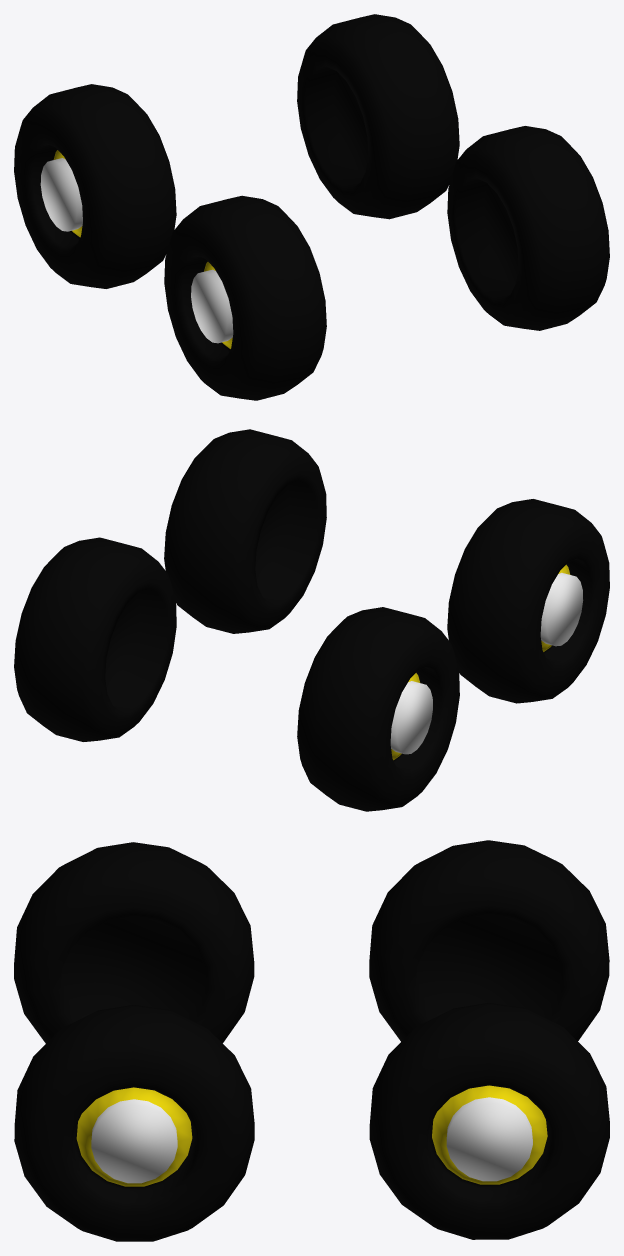
The model's file is player-kart-bigfoot.glb.
3 renders of one model, top to bottom at view 1: azimuth 30°, elevation 25°; view 2: azimuth 150°, elevation 25°; view 3: azimuth 270°, elevation 25°, orthographic. The views are drawn at different scales.
Parts seen in each view (by area): view 1: bigfoot; view 2: bigfoot; view 3: bigfoot.
Part boxes in pixels (x1,y1,x2,y2): bigfoot: (14, 14, 609, 400); bigfoot: (14, 429, 609, 811); bigfoot: (14, 840, 609, 1241).
Bounding box in the file's own units: 0.7605 × 0.3687 × 0.904.
